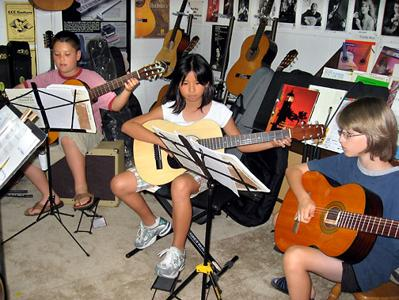person: (109, 54, 294, 282)
